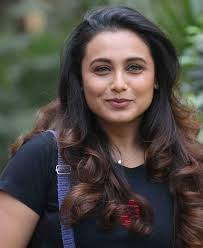s.black: (125, 74, 150, 103)
